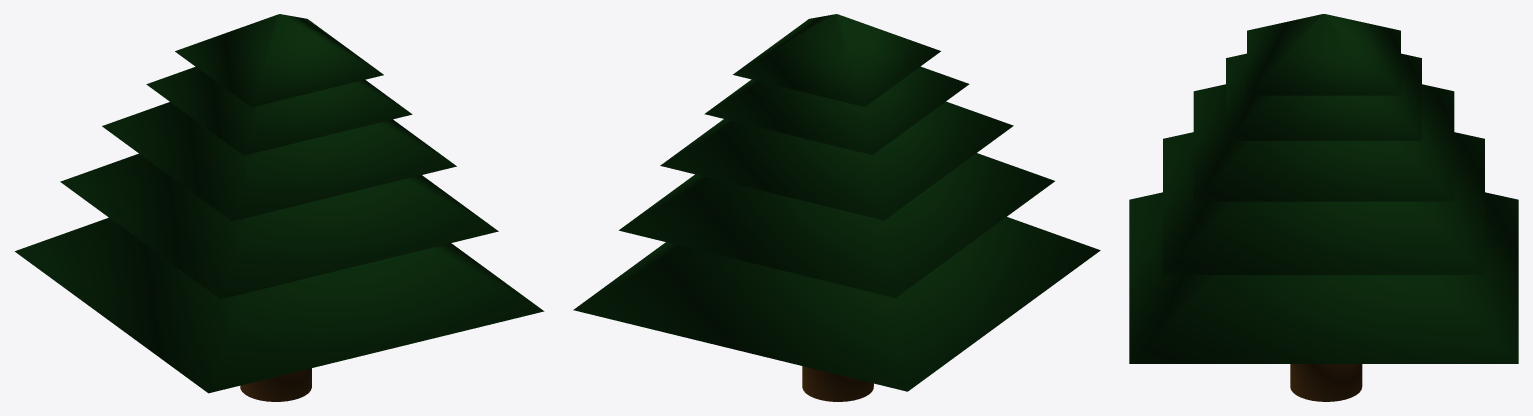
The model's file is PineTree Low Poly.fbx.
3 views of the same model, side by side, from view 1: azimuth 30°, elevation 25°; view 2: azimuth 150°, elevation 25°; view 3: azimuth 270°, elevation 25° (orthographic).
Parts seen in each view (by area): view 1: Cube, Cube.001, Cube.002, Cube.004, Cube.003, Cylinder; view 2: Cube, Cube.001, Cube.002, Cube.004, Cube.003, Cylinder; view 3: Cube, Cube.001, Cube.002, Cube.004, Cube.003, Cylinder.
Part boxes in pixels (x1=…): Cube: x1=15, y1=217, x2=544, y2=393; Cube.001: x1=60, y1=153, x2=498, y2=299; Cube.002: x1=102, y1=102, x2=456, y2=221; Cube.004: x1=175, y1=14, x2=383, y2=107; Cube.003: x1=146, y1=67, x2=412, y2=155; Cylinder: x1=240, y1=368, x2=311, y2=401; Cube: x1=573, y1=217, x2=1100, y2=391; Cube.001: x1=619, y1=153, x2=1054, y2=297; Cube.002: x1=660, y1=101, x2=1013, y2=220; Cube.004: x1=733, y1=14, x2=940, y2=106; Cube.003: x1=704, y1=66, x2=969, y2=154; Cylinder: x1=802, y1=366, x2=873, y2=401; Cube: x1=1129, y1=192, x2=1518, y2=363; Cube.001: x1=1163, y1=132, x2=1484, y2=274; Cube.002: x1=1193, y1=84, x2=1454, y2=201; Cube.004: x1=1247, y1=14, x2=1400, y2=95; Cube.003: x1=1226, y1=53, x2=1421, y2=140; Cylinder: x1=1290, y1=364, x2=1362, y2=401.
Size of the model in its own units: 568 by 601 by 568.
